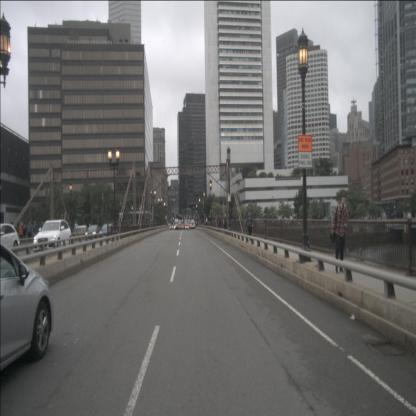human-pedestrian-adult: (330, 194, 350, 274), (245, 210, 254, 243), (18, 221, 24, 246), (32, 220, 38, 244), (27, 221, 33, 245), (39, 219, 44, 242), (22, 223, 27, 245), (223, 213, 228, 234), (14, 223, 18, 246), (74, 221, 78, 239), (215, 214, 219, 231), (218, 214, 221, 231), (205, 216, 208, 230)
vehicle-car: (0, 243, 54, 371), (34, 220, 72, 254), (0, 224, 20, 255), (99, 223, 117, 239), (86, 225, 100, 239)
vehicle-truck: (190, 220, 195, 229)
